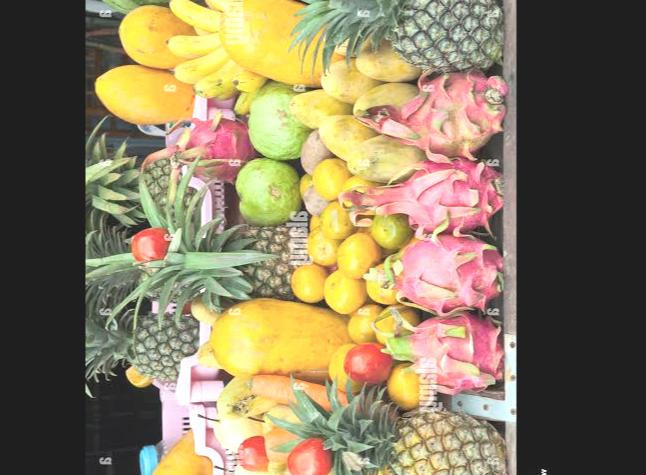thanh_long: (384, 234, 504, 314), (396, 72, 504, 155), (387, 159, 504, 233)
